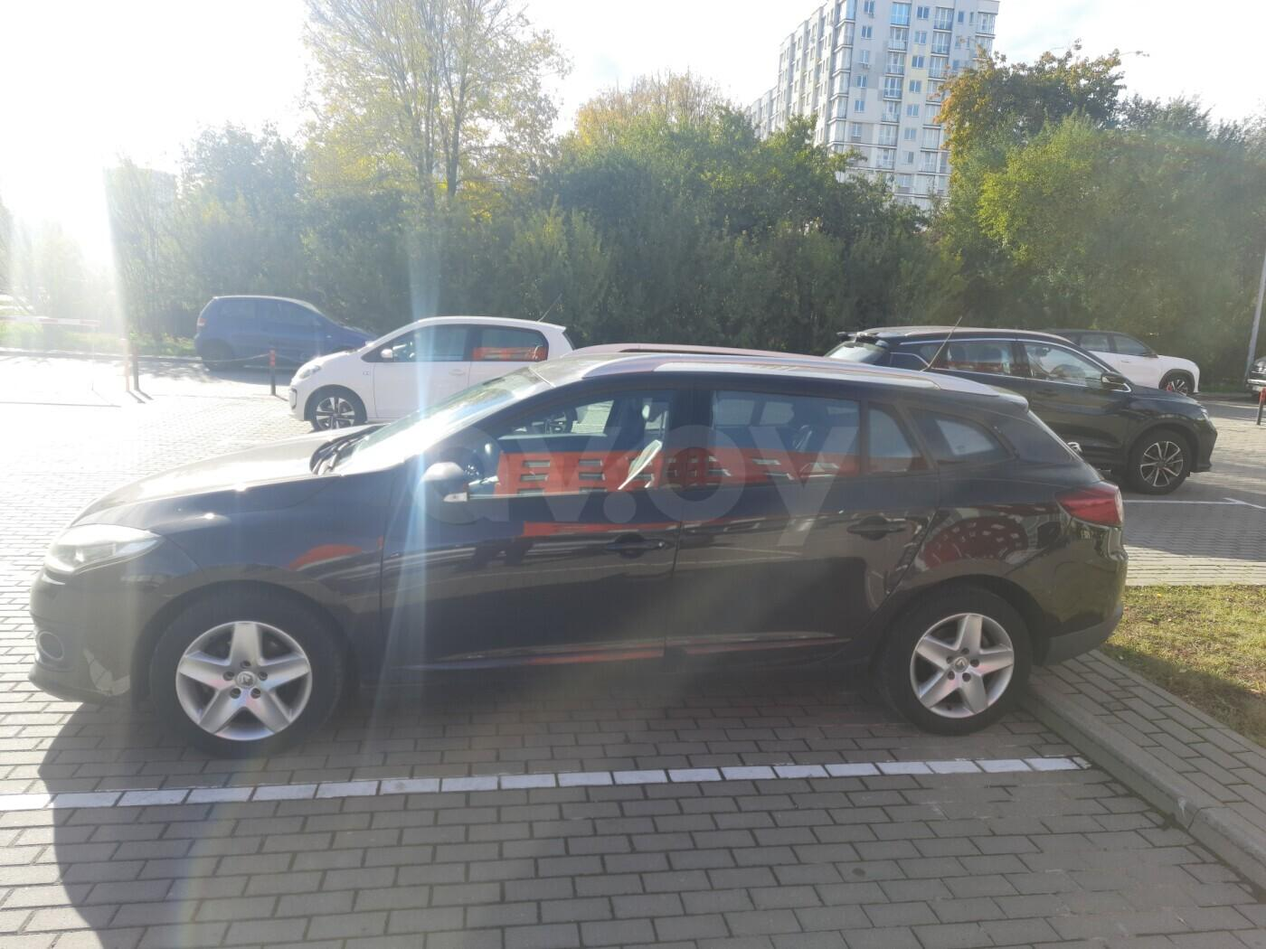Megane_2014-2016: (13, 342, 1139, 762)
